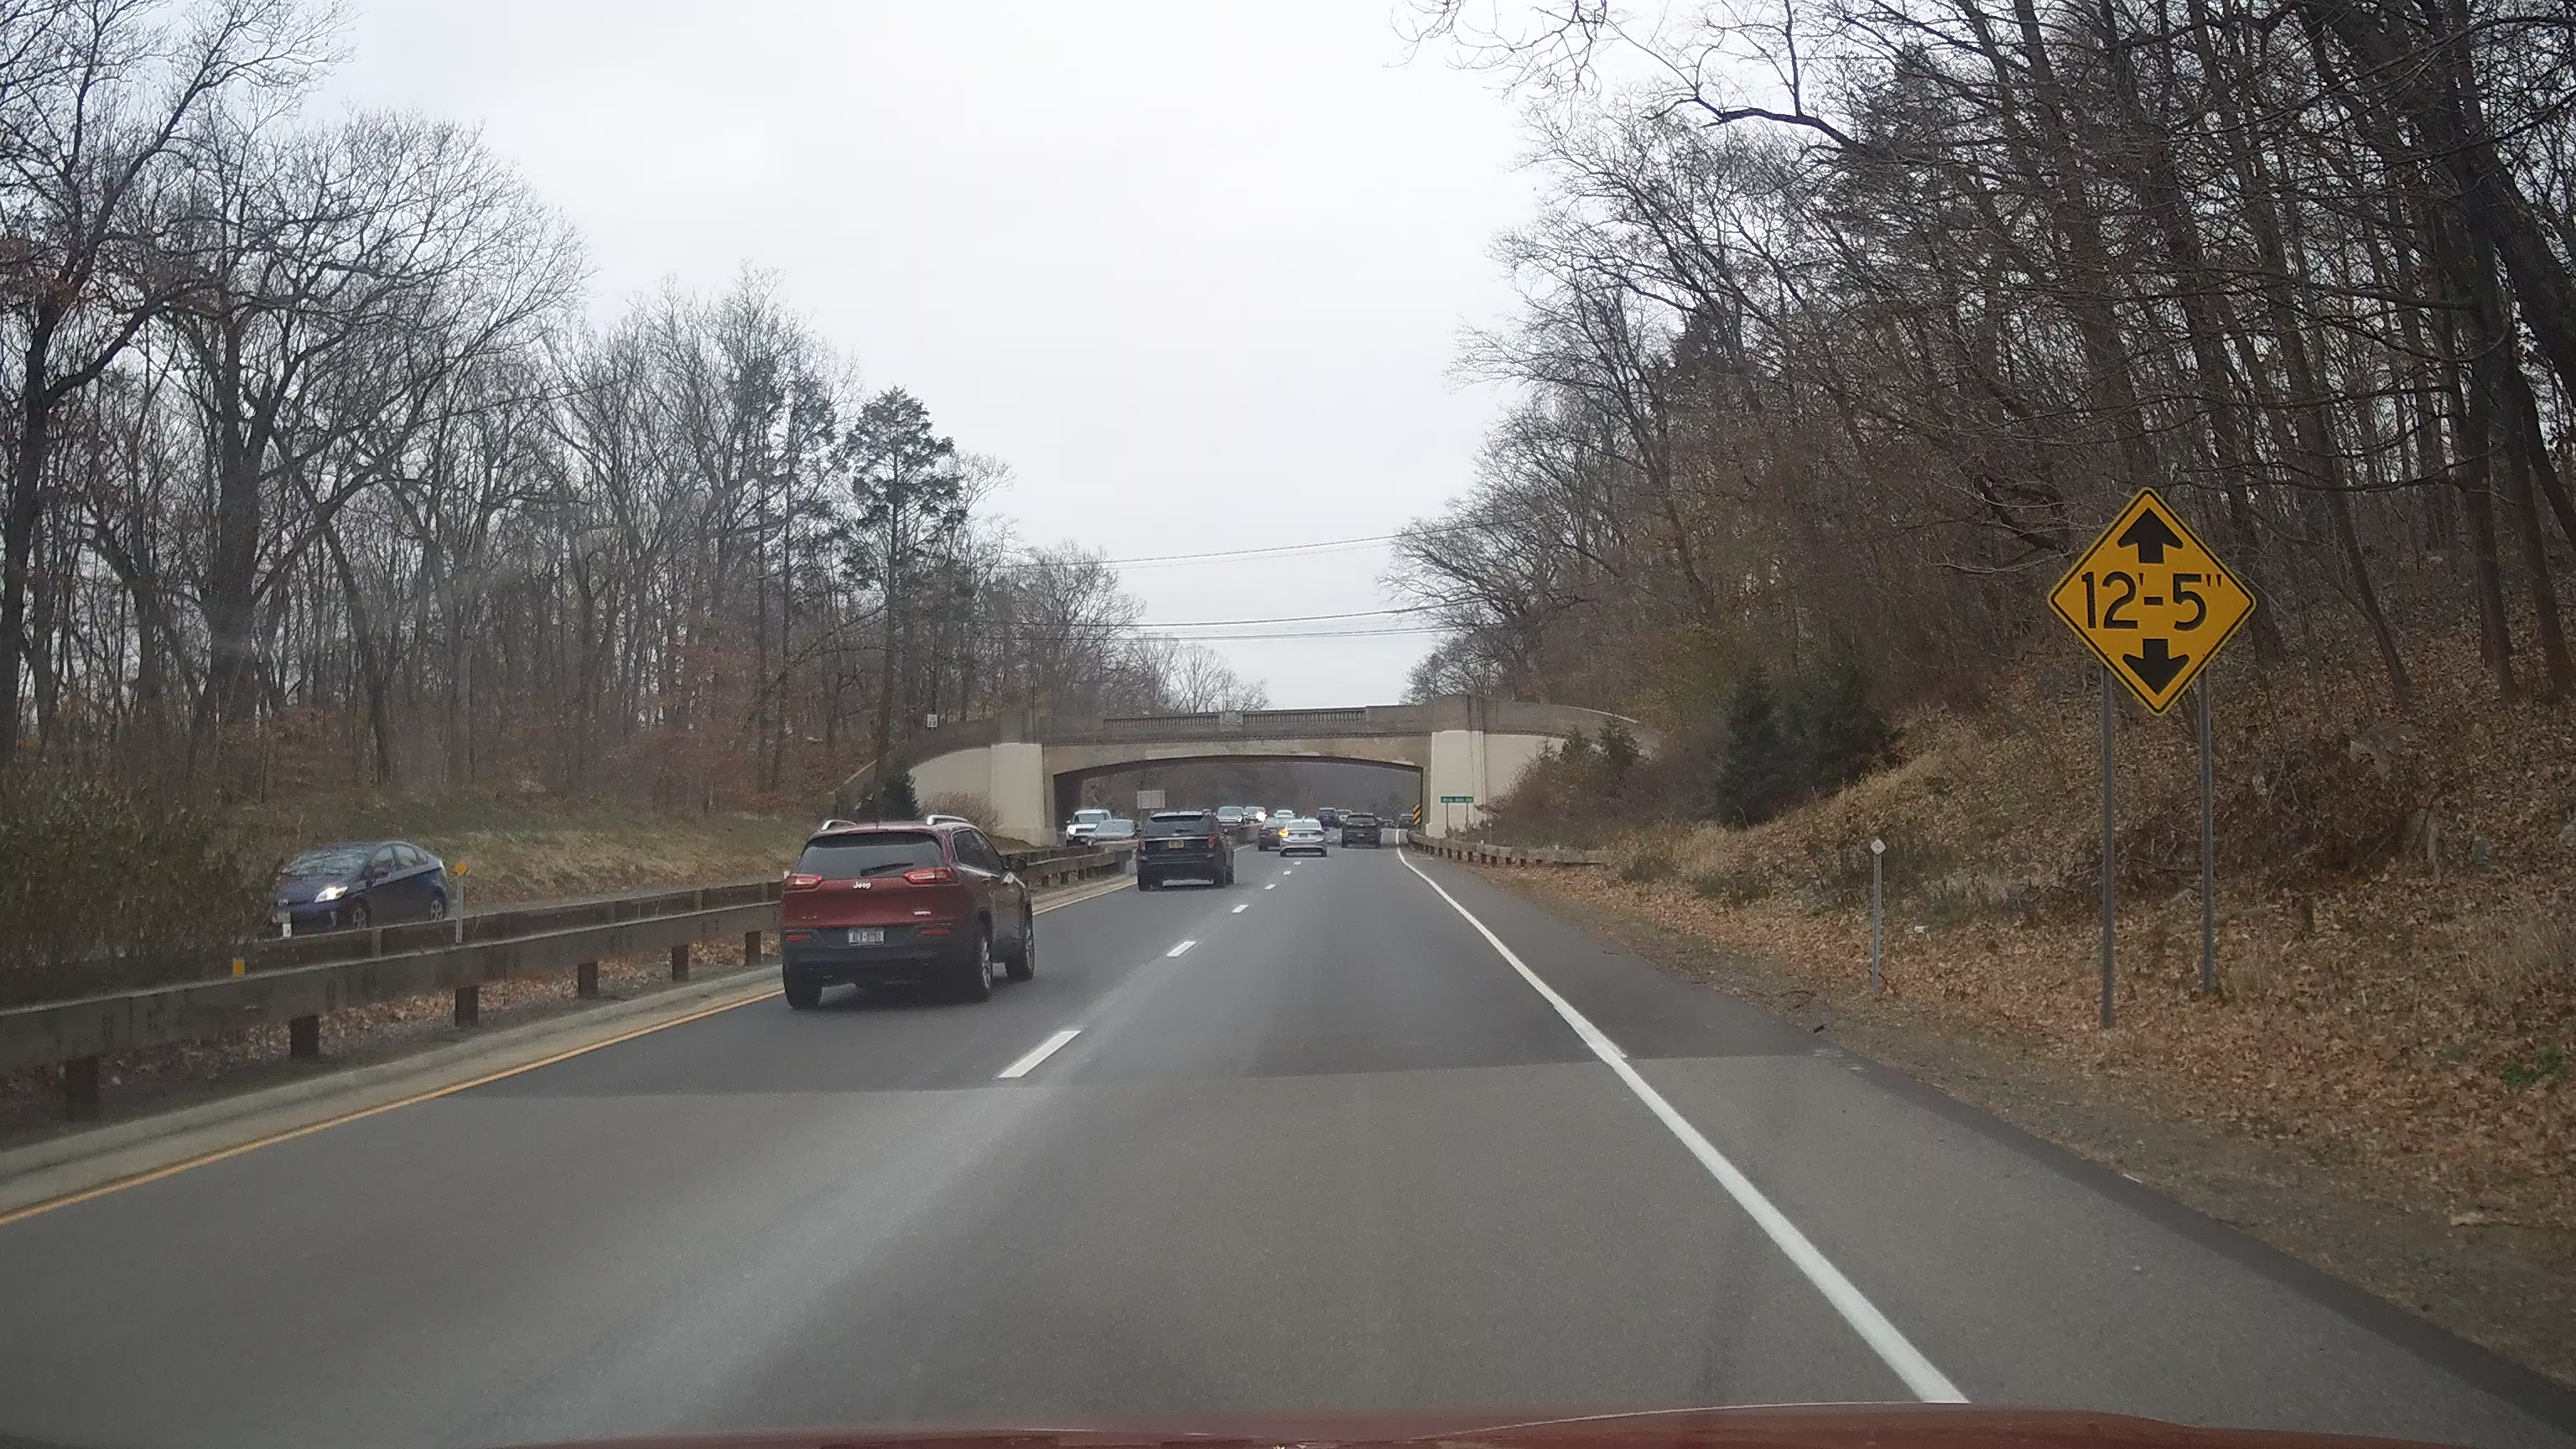low-clearance-sign: (2045, 487, 2258, 718)
